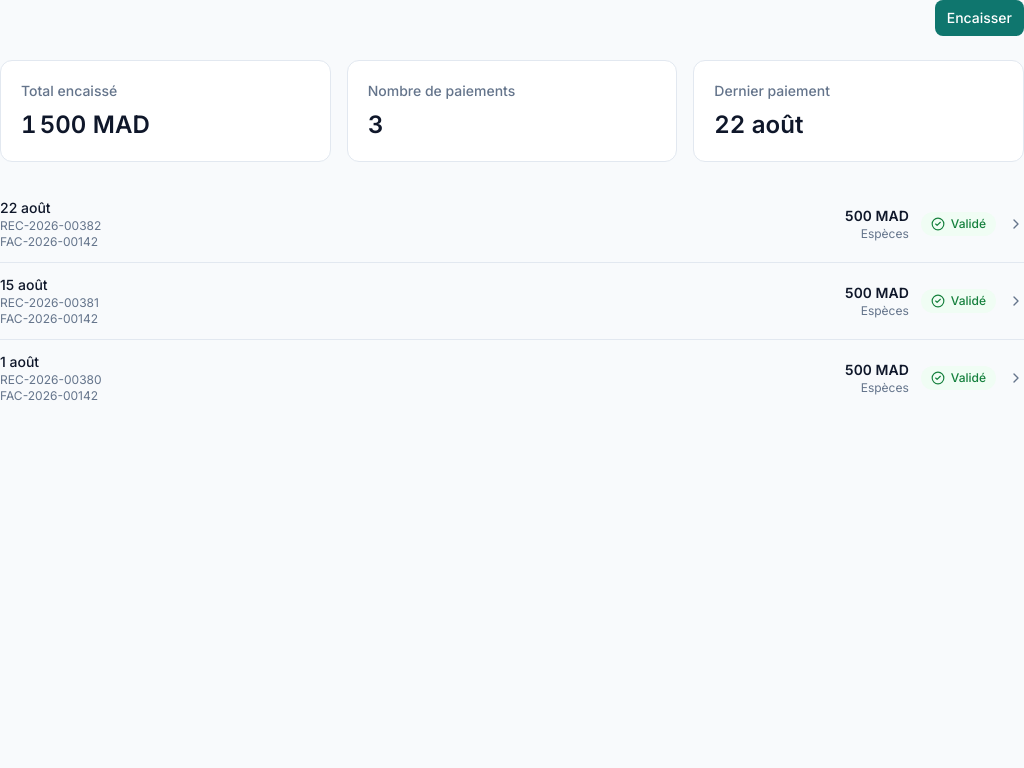
PatientPaymentsContent › opens the payment detail drawer with receipt, amount, date, allocation and patient (7/8/9/40)
What coordinates should you click on to do the following:
click the text "REC-2026-00382"
I would click on:
 (51, 226)
Its box is [0,218,101,234].
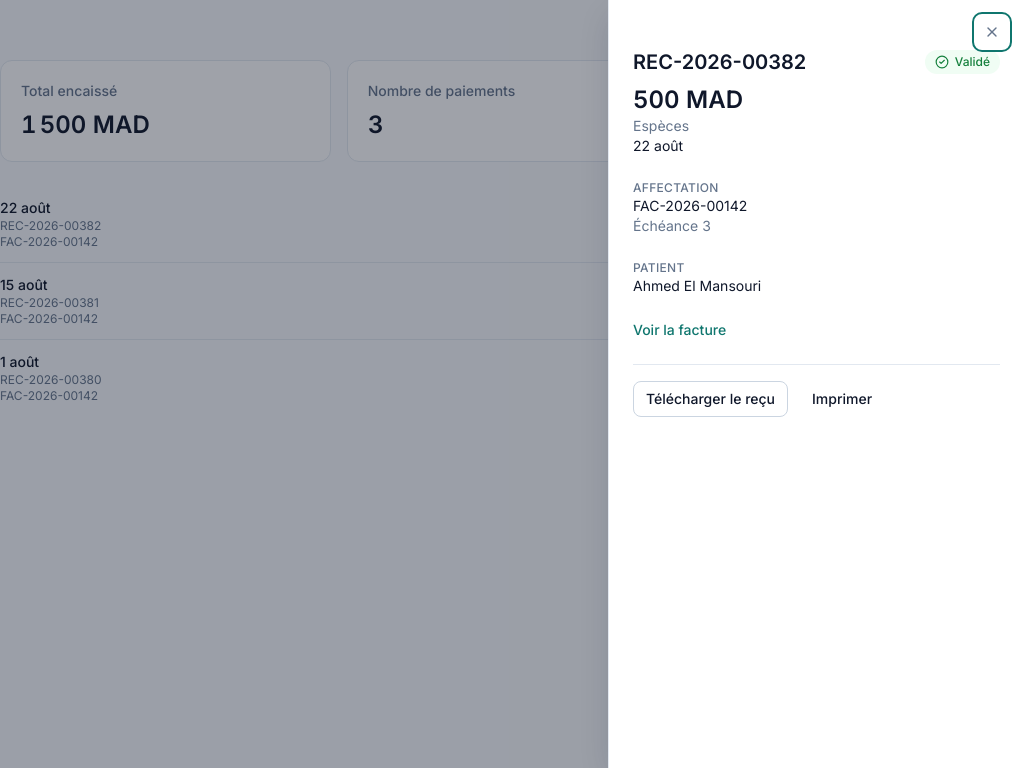
Now the heading "REC-2026-00382" is shown, box [633,48,806,76]
Now the text "500 MAD" is shown, box [633,85,743,114]
Now the text "22 août" is shown, box [633,137,683,154]
